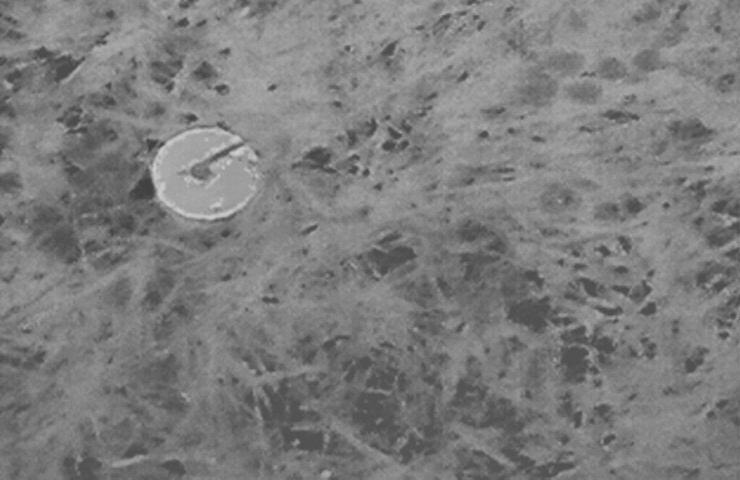landmines: (148, 121, 265, 223)
